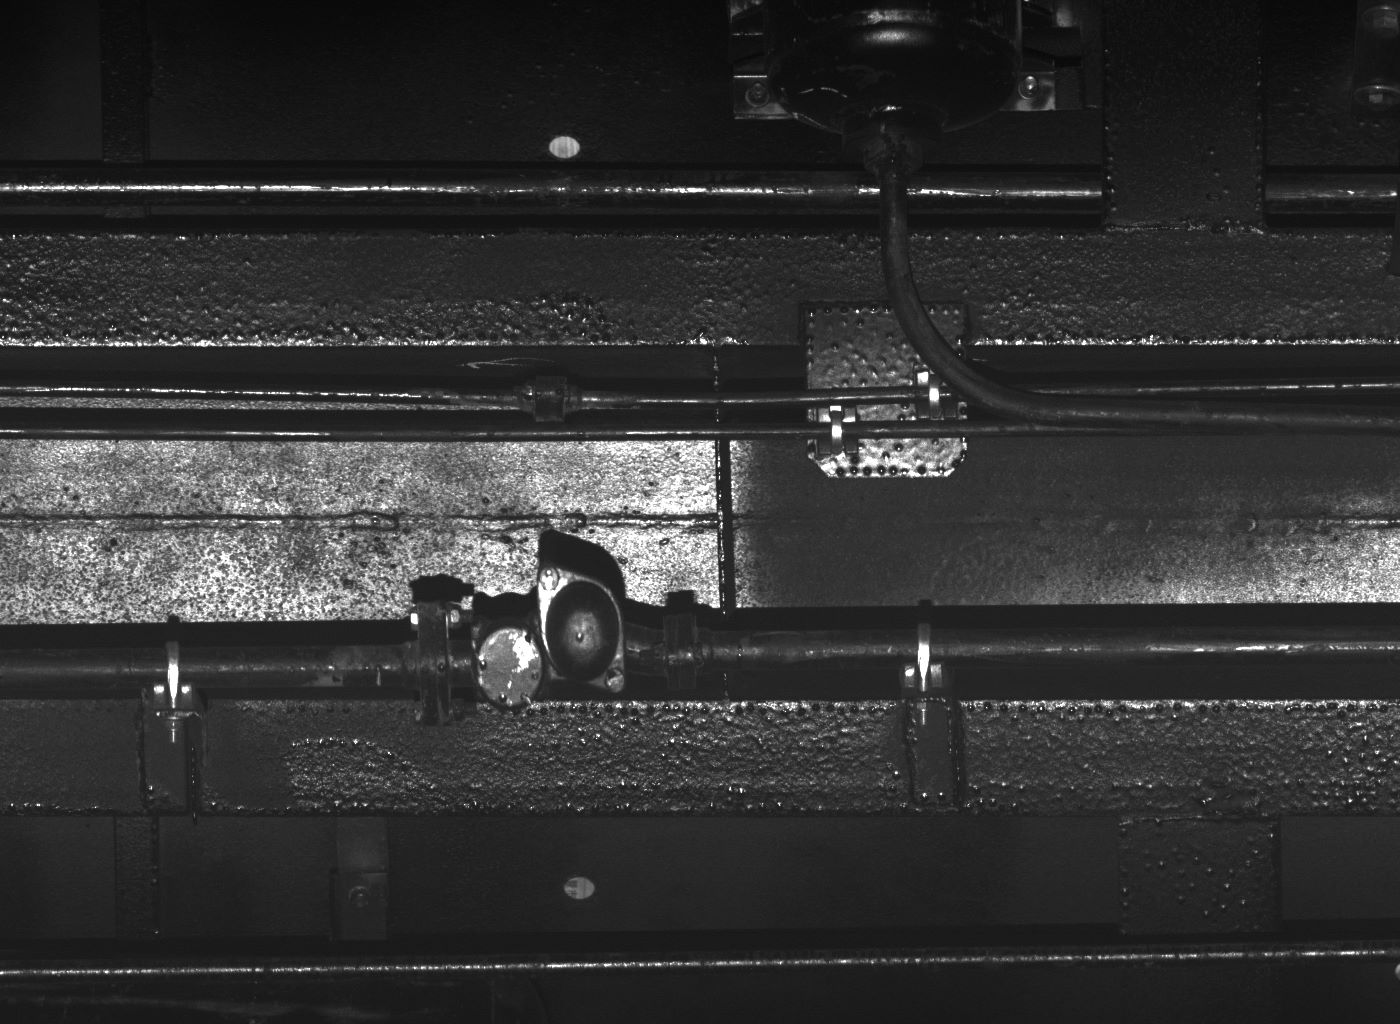normal: (468, 615, 546, 708)
